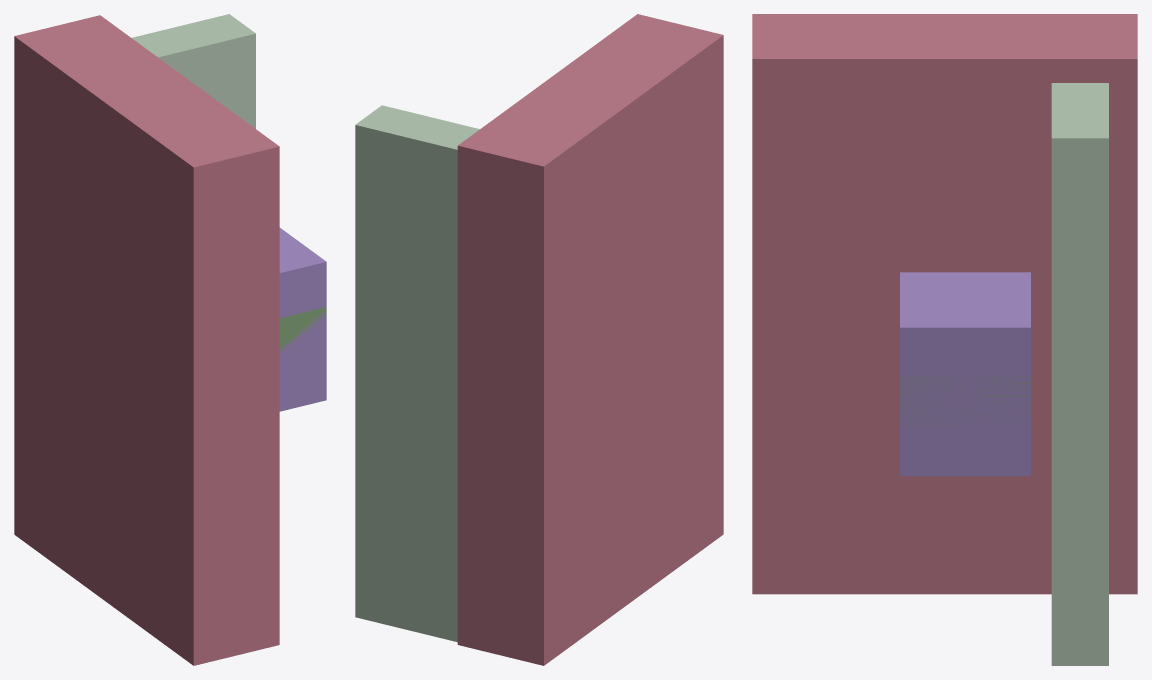
File: 199534_pred.glb
The picture shows the model from 3 angles, left to right: view 1: azimuth 30°, elevation 25°; view 2: azimuth 150°, elevation 25°; view 3: azimuth 270°, elevation 25°; orthographic projection. The views are drawn at different scales.
Visible parts, largest first — view 1: world; view 2: world; view 3: world.
Part boxes in pixels (box(x1,y1,x2,y2)): world: box(14, 14, 326, 665); world: box(355, 14, 723, 665); world: box(752, 14, 1137, 665).
Size of the model in its own units: 3.05 by 7.35 by 4.7.
